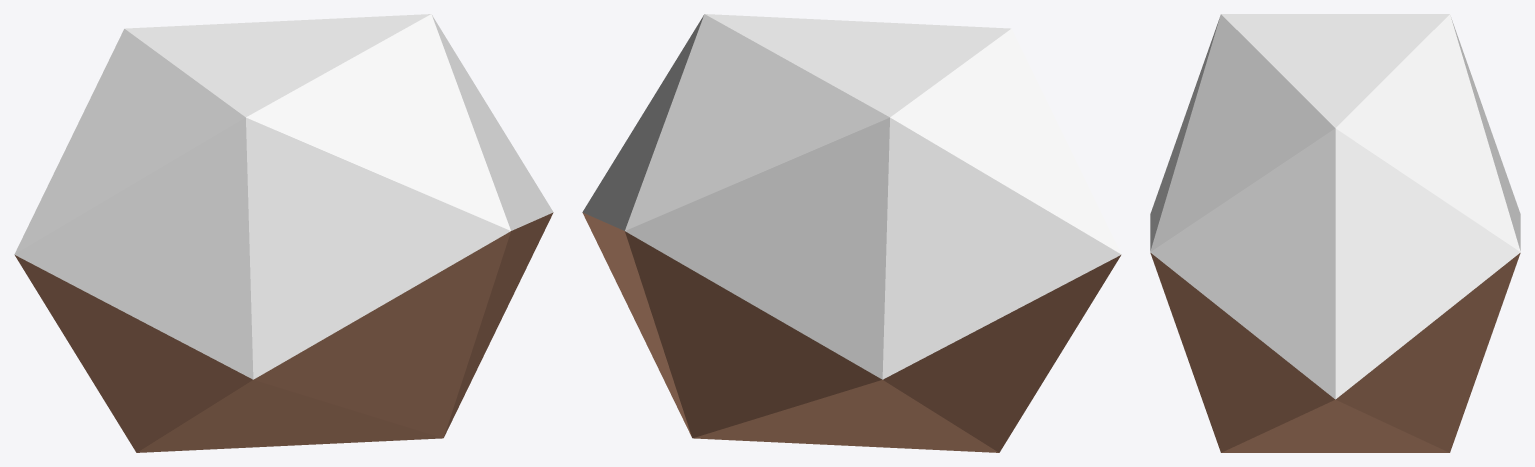
File: Coconut_Snow_01.fbx
3 renders of one model, left to right at view 1: azimuth 30°, elevation 25°; view 2: azimuth 150°, elevation 25°; view 3: azimuth 270°, elevation 25°, orthographic. The views are drawn at different scales.
Visible parts, largest first — view 1: Coconut_Snow_01; view 2: Coconut_Snow_01; view 3: Coconut_Snow_01.
Part boxes in pixels (<box>): Coconut_Snow_01: <box>14,14,553,452</box>; Coconut_Snow_01: <box>582,14,1121,452</box>; Coconut_Snow_01: <box>1150,14,1520,452</box>.
Size of the model in its own units: 44.47 by 29.09 by 28.07.
